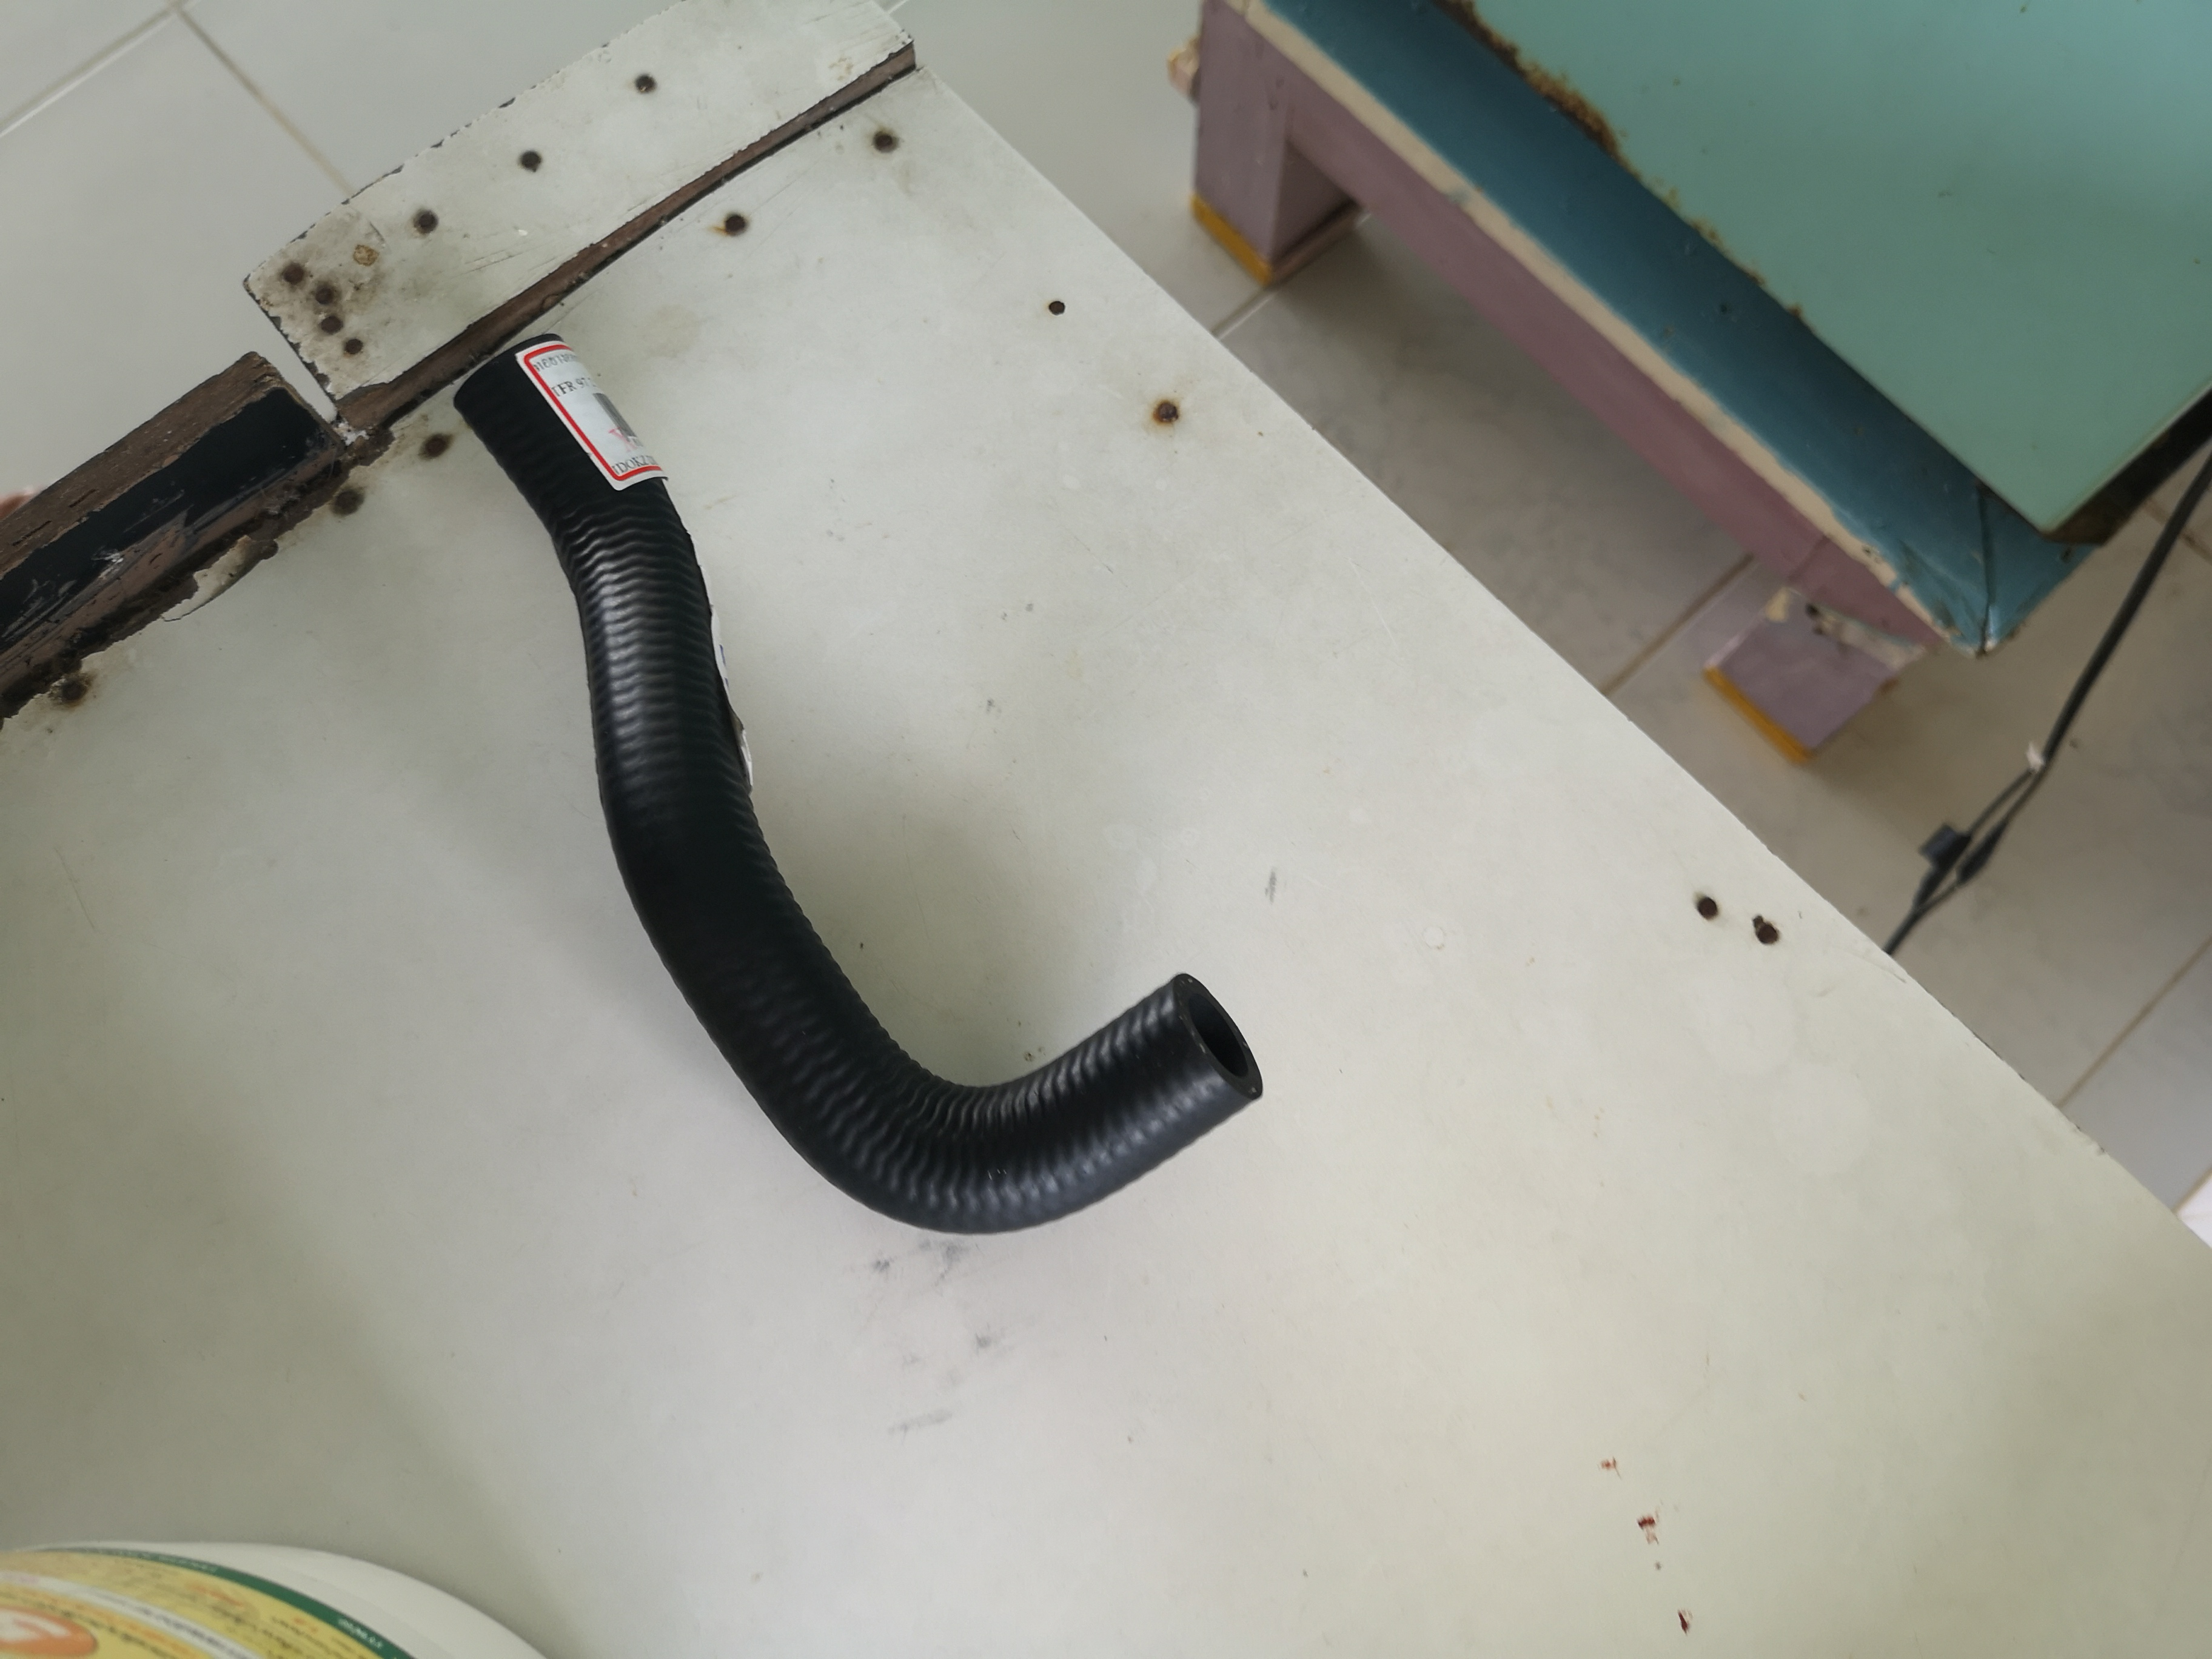ท่อยางน้ำมันเลี้ยงเทอร์โบ: (430, 303, 1264, 1270)
